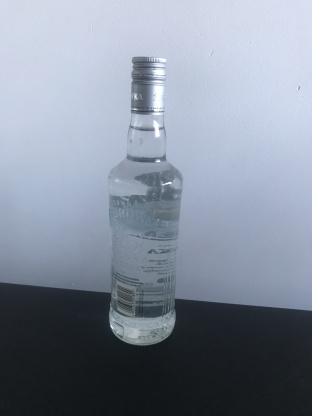nakretka: (129, 53, 168, 117)
